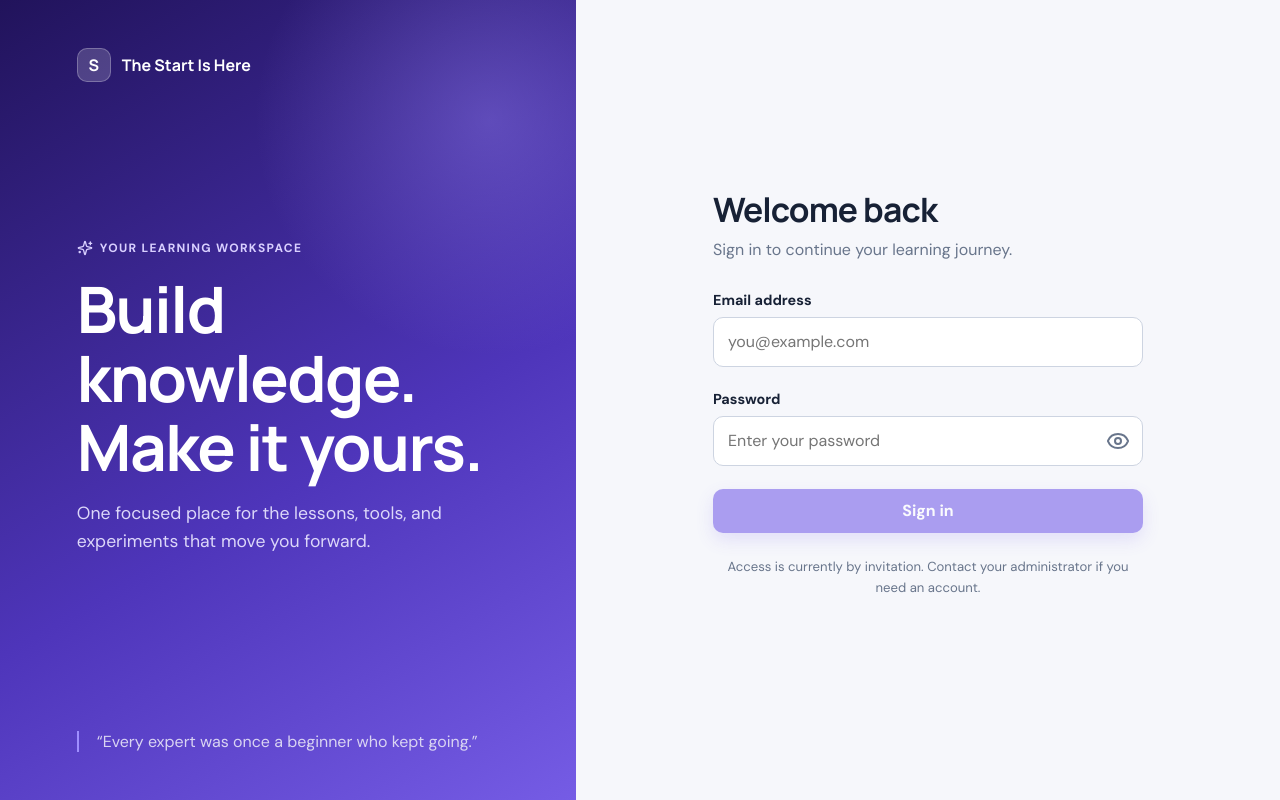
Test: login experience › shows accessible validation and a generic authentication error
expect the heading "Welcome back" is shown: met, box [713,186,937,232]
Type "learner@example.com" into the field labelled "Email address" at (928, 342), box [713,317,1143,367]
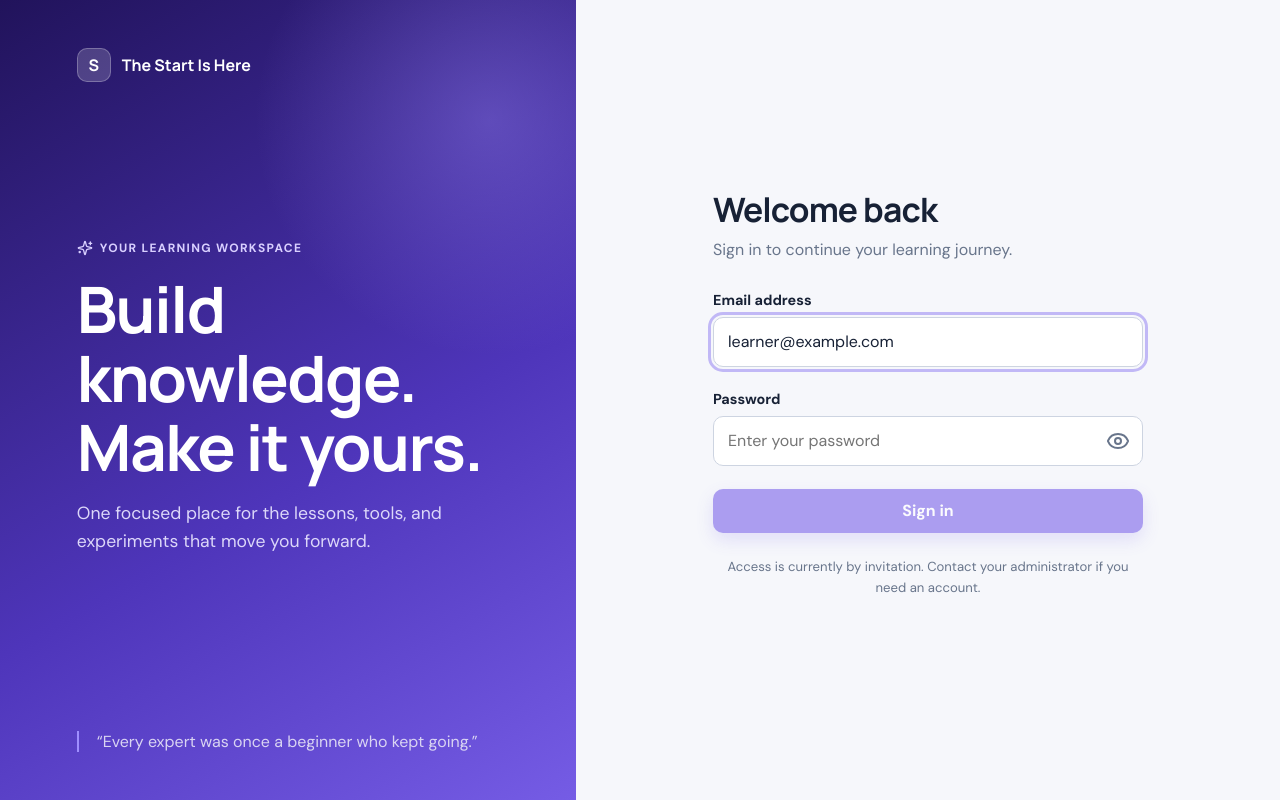
Type "wrong" into the password field labelled "Password" at (928, 441), box [713,416,1143,466]
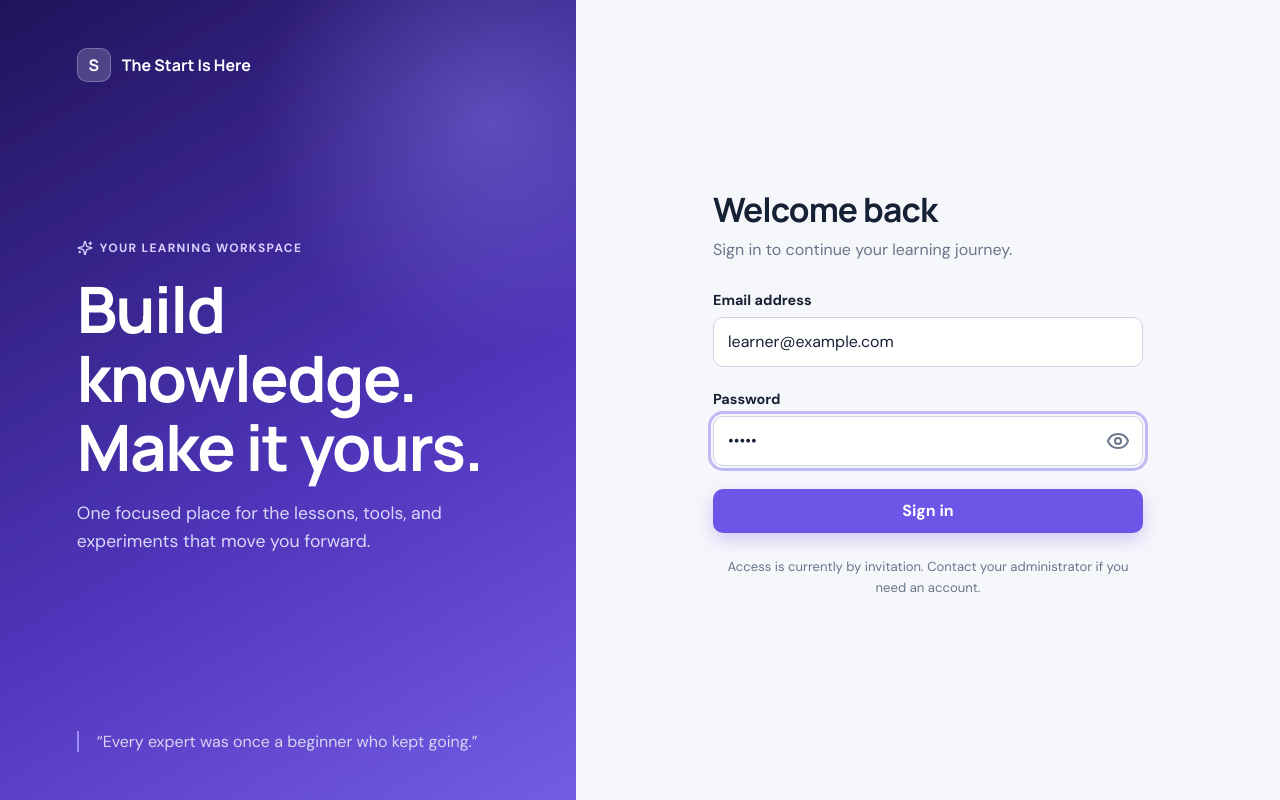
Click the button "Sign in" at (928, 511), box [713,489,1143,533]
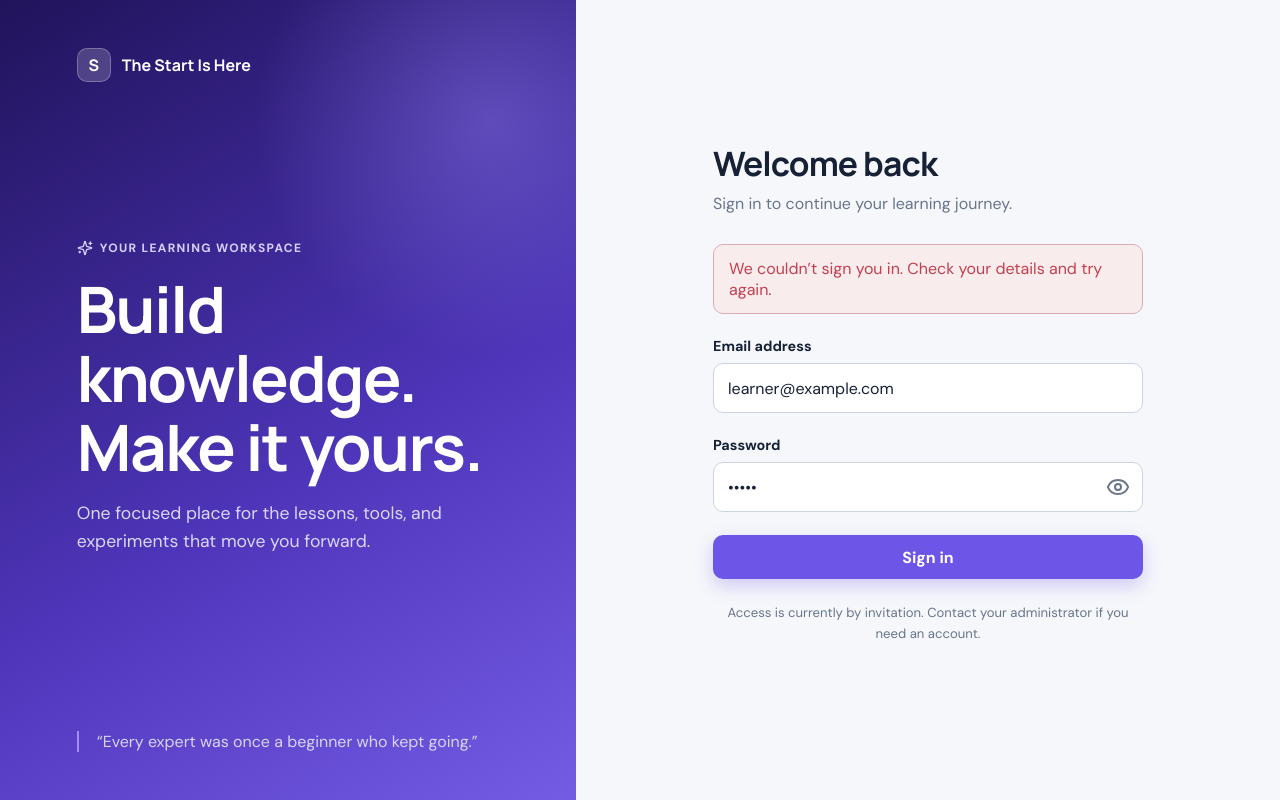
expect the message shows "We couldn’t sign you in": met, box [729,258,1102,300]
